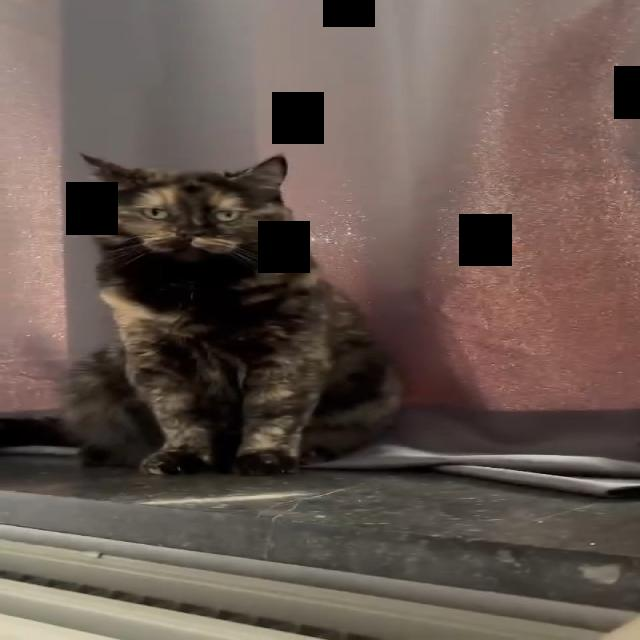authorized: (58, 151, 406, 476)
